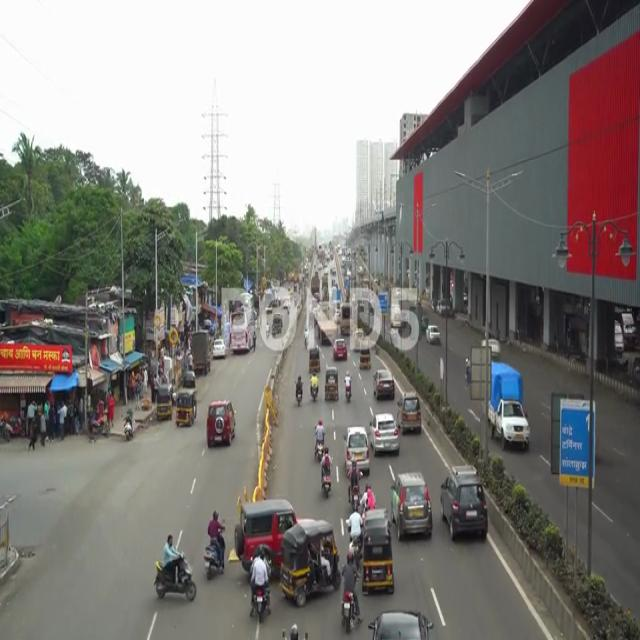car: (439, 469, 489, 544), (391, 470, 432, 540), (206, 402, 237, 447), (346, 422, 370, 473), (371, 412, 399, 455), (400, 394, 423, 438)
motorbike: (154, 533, 197, 614), (340, 552, 365, 638), (245, 546, 272, 624), (340, 548, 362, 633), (204, 508, 227, 582), (320, 445, 334, 500), (315, 413, 325, 464), (296, 376, 306, 405)
rikshaw: (364, 512, 396, 594), (175, 388, 198, 429)
truck: (491, 364, 532, 452)
